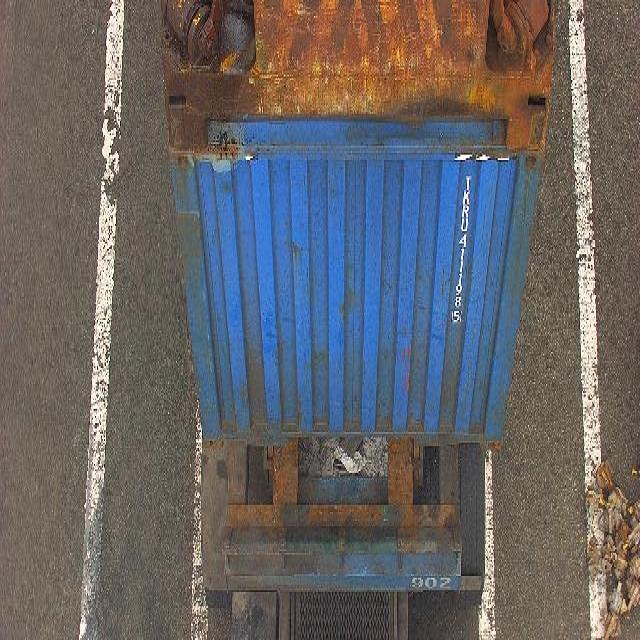container_number: (452, 154, 472, 338)
